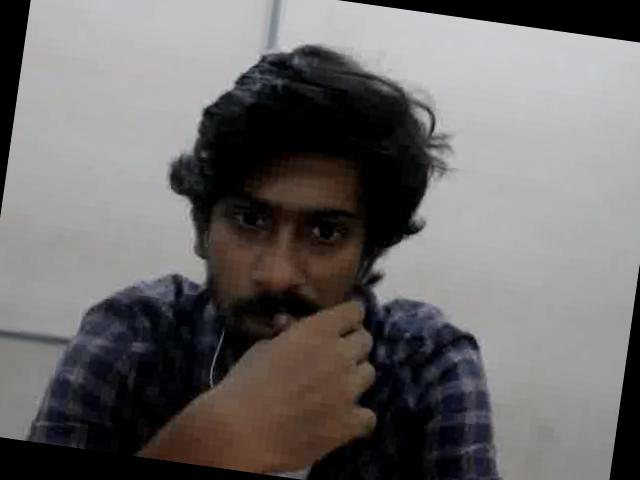bingung: (205, 154, 378, 355)
